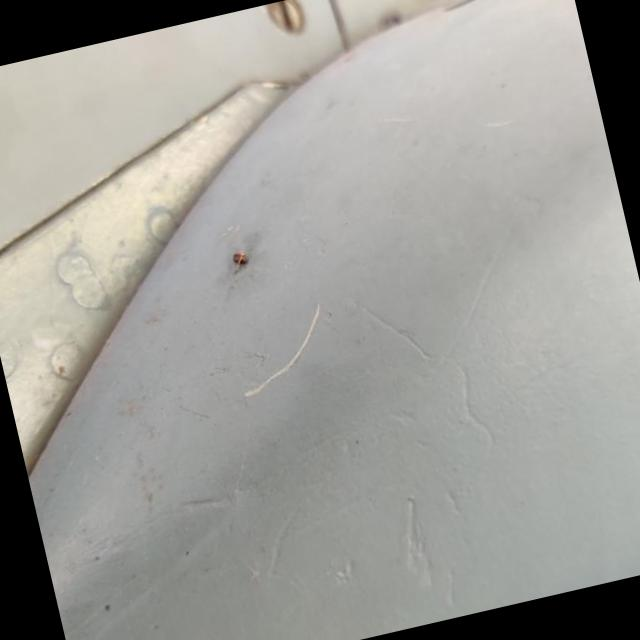Scratch: (226, 291, 333, 410)
